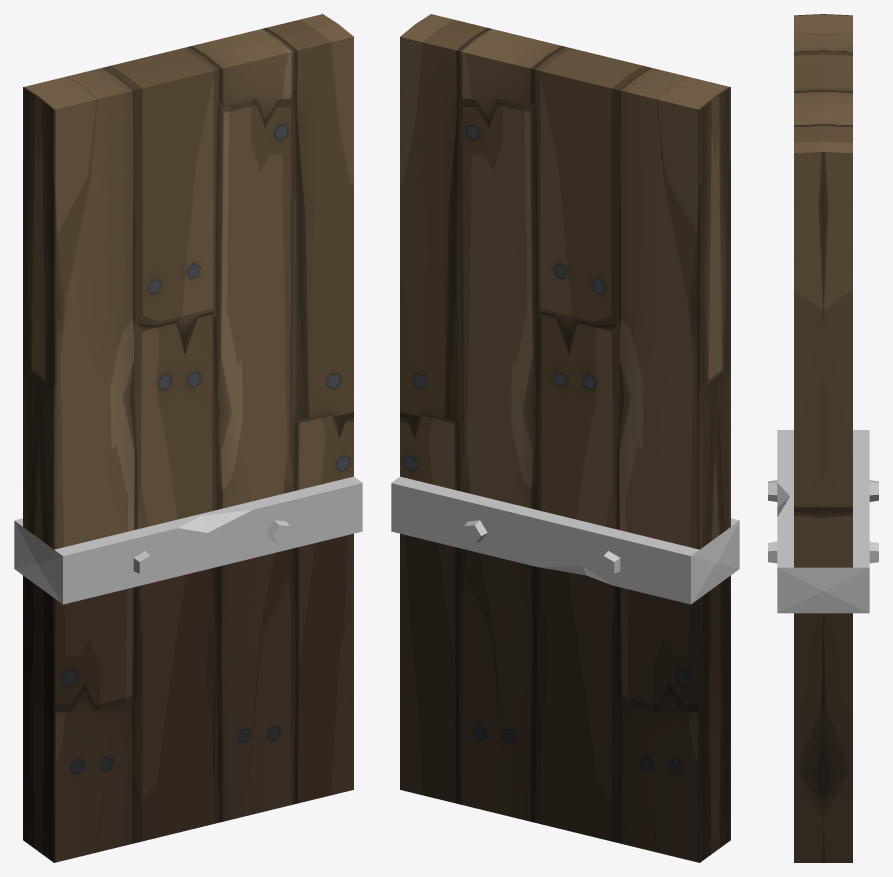
Rendered from SM_Bld_Wall_Half_01.fbx.
The picture shows the model from 3 angles, left to right: view 1: azimuth 30°, elevation 25°; view 2: azimuth 150°, elevation 25°; view 3: azimuth 270°, elevation 25°; orthographic projection. The views are drawn at different scales.
Visible parts, largest first — view 1: SM_Bld_Wall_Half_01; view 2: SM_Bld_Wall_Half_01; view 3: SM_Bld_Wall_Half_01.
Part boxes in pixels (bbox=[...]): SM_Bld_Wall_Half_01: bbox=[14, 14, 362, 862]; SM_Bld_Wall_Half_01: bbox=[391, 14, 739, 862]; SM_Bld_Wall_Half_01: bbox=[768, 14, 878, 862].
Size of the model in its own units: 127 by 301 by 42.5.
